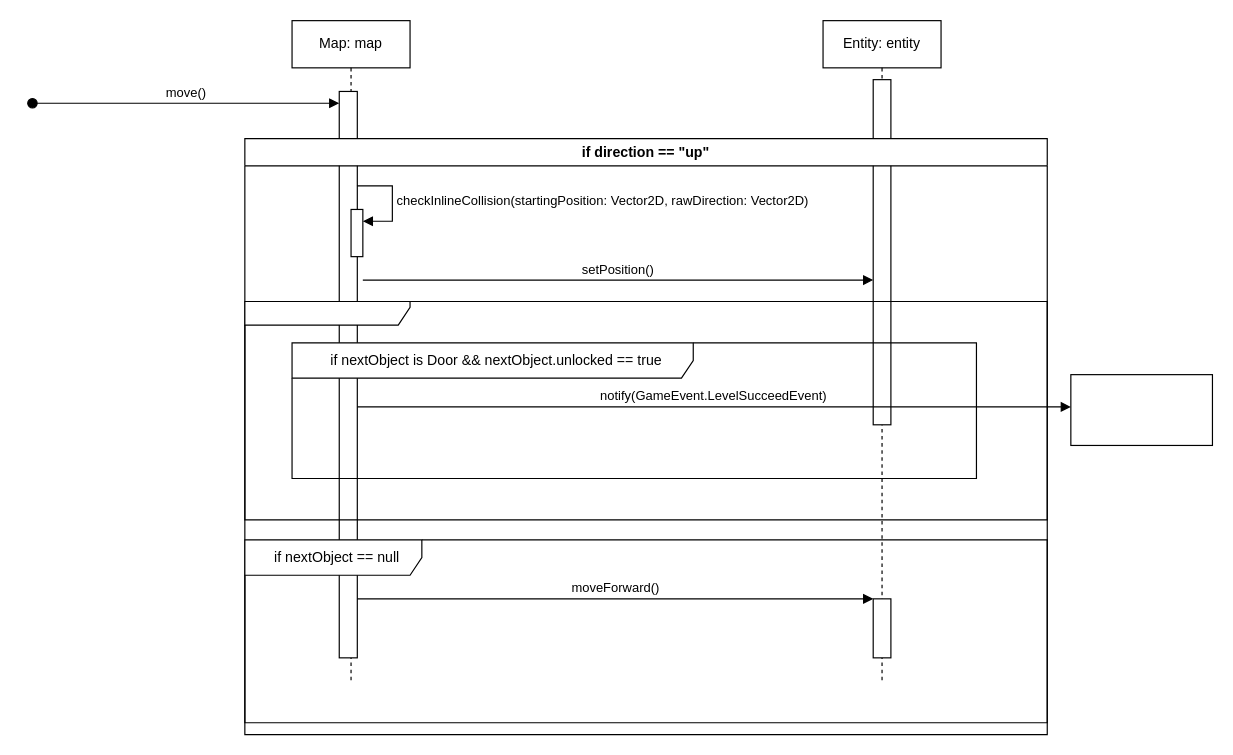
Image size: 1233x755. Some labels were removed from this diagram. The shapes that lost their labels are listed below. From the top down, each one's centre as x and y in pixels, then its label:
At (x=645, y=410): "if entity == player".
At (x=1141, y=409): "GameEvent Manager".
